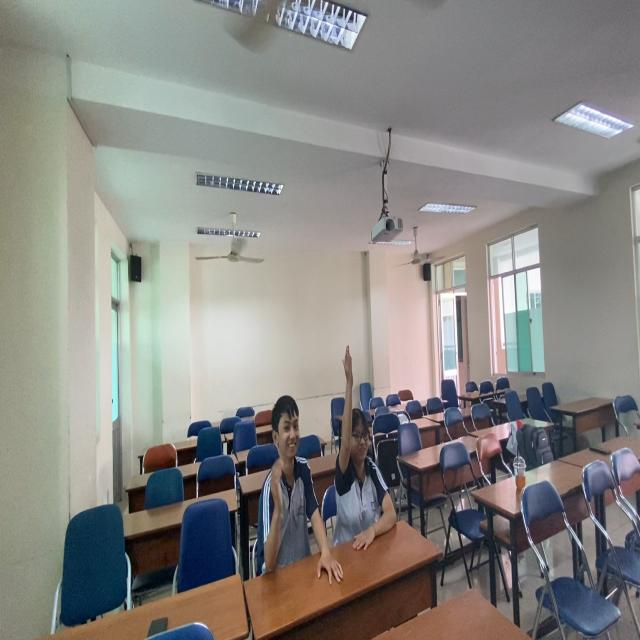raise_hand: (334, 343, 402, 555), (258, 389, 333, 579)
